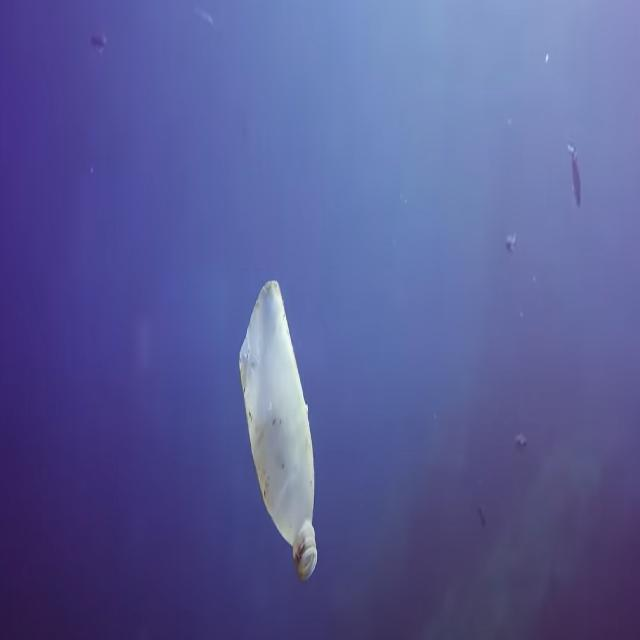litter: (231, 264, 334, 590)
